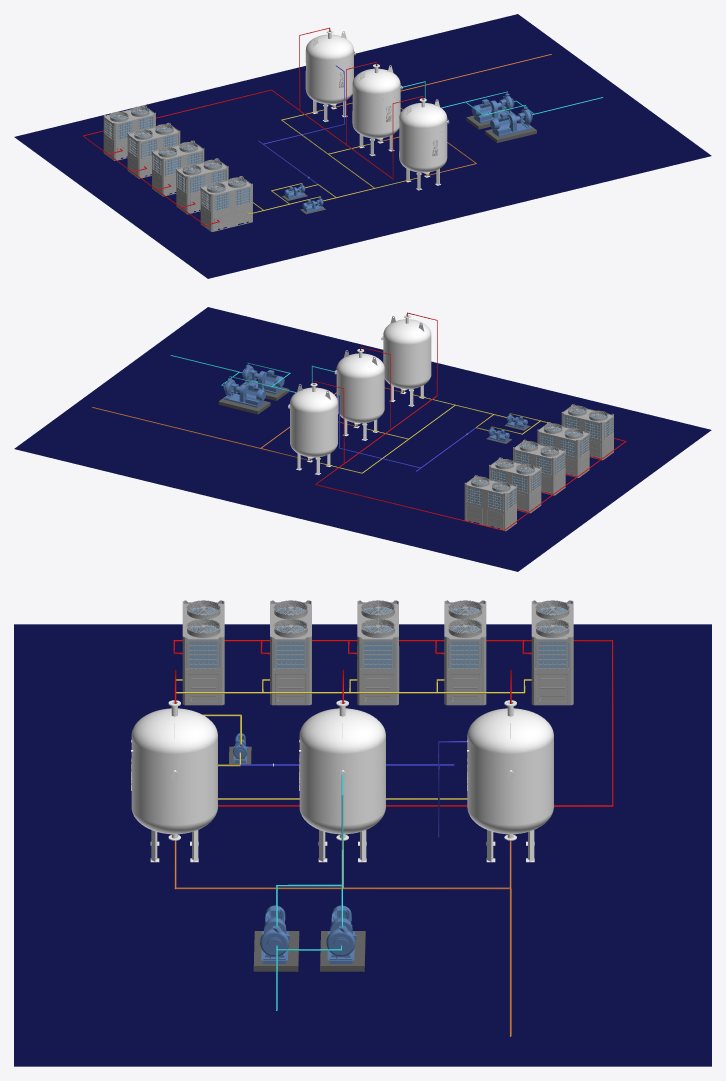
The picture shows the model from 3 angles, top to bottom: view 1: azimuth 30°, elevation 25°; view 2: azimuth 150°, elevation 25°; view 3: azimuth 270°, elevation 25°; orthographic projection. The views are drawn at different scales.
Parts seen in each view (by area): view 1: 平面, 储水罐-1, 储水罐-2, 储水罐-3, 空气源热泵-1, 空气源热泵-4, 空气源热泵-5, 空气源热泵-3, 空气源热泵-2, 循环泵-1, 循环泵-2, 热泵回水.068; view 2: 平面, 储水罐-1, 储水罐-2, 储水罐-3, 空气源热泵-5, 空气源热泵-1, 空气源热泵-2, 空气源热泵-3, 空气源热泵-4, 循环泵-2, 循环泵-1, 热泵回水.068; view 3: 平面, 储水罐-3, 储水罐-1, 储水罐-2, 空气源热泵-5, 空气源热泵-4, 空气源热泵-1, 空气源热泵-3, 空气源热泵-2, 循环泵-2, 循环泵-1, 热泵回水.057 (+1 smaller).
Boxes of the visible parts, x1=… form: 平面: x1=14, y1=14, x2=711, y2=278; 储水罐-1: x1=399, y1=98, x2=449, y2=190; 储水罐-2: x1=352, y1=64, x2=402, y2=156; 储水罐-3: x1=305, y1=30, x2=355, y2=121; 空气源热泵-1: x1=200, y1=176, x2=252, y2=231; 空气源热泵-4: x1=127, y1=122, x2=180, y2=178; 空气源热泵-5: x1=103, y1=105, x2=155, y2=160; 空气源热泵-3: x1=152, y1=140, x2=204, y2=196; 空气源热泵-2: x1=176, y1=158, x2=228, y2=214; 循环泵-1: x1=485, y1=107, x2=536, y2=142; 循环泵-2: x1=466, y1=93, x2=516, y2=129; 热泵回水.068: x1=83, y1=89, x2=299, y2=225; 平面: x1=14, y1=307, x2=711, y2=571; 储水罐-1: x1=381, y1=314, x2=431, y2=406; 储水罐-2: x1=334, y1=349, x2=384, y2=440; 储水罐-3: x1=288, y1=383, x2=337, y2=475; 空气源热泵-5: x1=464, y1=475, x2=516, y2=531; 空气源热泵-1: x1=561, y1=404, x2=613, y2=460; 空气源热泵-2: x1=537, y1=422, x2=589, y2=477; 空气源热泵-3: x1=513, y1=439, x2=565, y2=495; 空气源热泵-4: x1=489, y1=457, x2=541, y2=513; 循环泵-2: x1=218, y1=378, x2=270, y2=414; 循环泵-1: x1=239, y1=365, x2=289, y2=400; 热泵回水.068: x1=315, y1=441, x2=626, y2=530; 平面: x1=14, y1=624, x2=711, y2=1066; 储水罐-3: x1=467, y1=700, x2=553, y2=862; 储水罐-1: x1=131, y1=700, x2=217, y2=862; 储水罐-2: x1=299, y1=700, x2=385, y2=862; 空气源热泵-5: x1=531, y1=600, x2=573, y2=705; 空气源热泵-4: x1=444, y1=600, x2=486, y2=705; 空气源热泵-1: x1=182, y1=600, x2=224, y2=705; 空气源热泵-3: x1=357, y1=600, x2=399, y2=705; 空气源热泵-2: x1=270, y1=600, x2=311, y2=705; 循环泵-2: x1=320, y1=905, x2=365, y2=971; 循环泵-1: x1=253, y1=905, x2=299, y2=971; 热泵回水.057: x1=175, y1=887, x2=509, y2=889.
Size of the model in its own units: 24 by 3.95 by 16.
